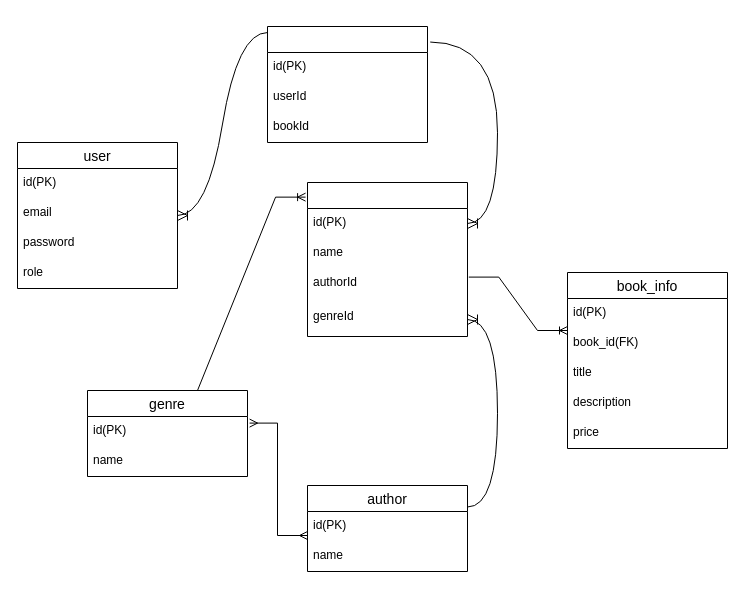
Some shapes in this 745 by 592 pixel diagram are drawn without their labels. The shapes that lost their labels are listed below. From the top down, each one's box as (x1, y1, x2, y2) in pixels, then its label:
(266, 26, 428, 142): favorite
(306, 182, 468, 336): book
